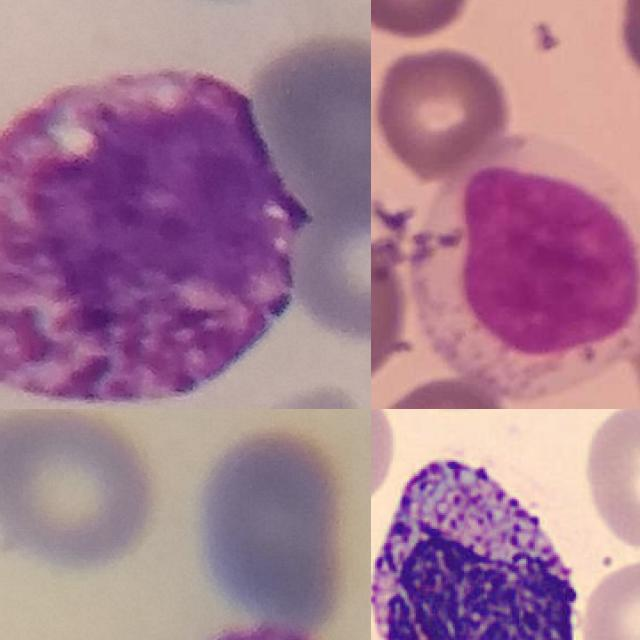Basophil: (0, 63, 308, 405), (371, 437, 592, 640)
Lymphocyte: (413, 133, 640, 400)
RBC: (579, 409, 640, 553), (575, 553, 640, 640)
